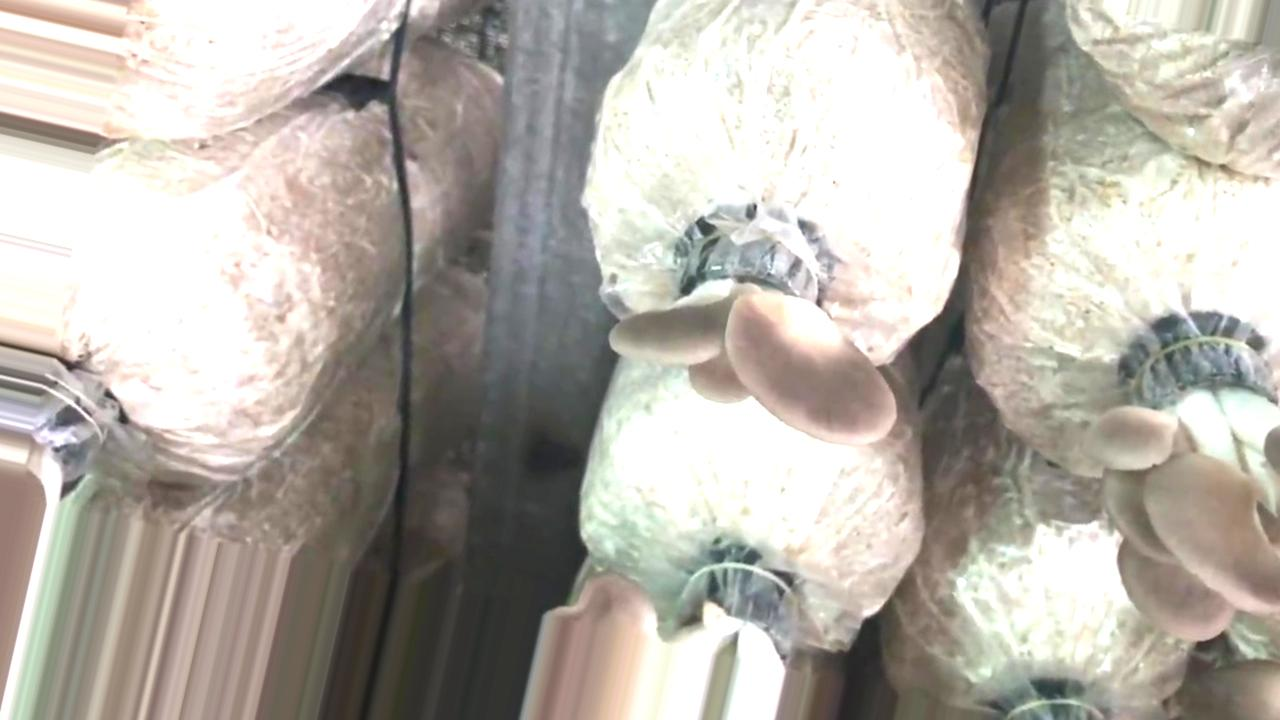nam: (1096, 330, 1280, 640), (627, 241, 884, 456)
